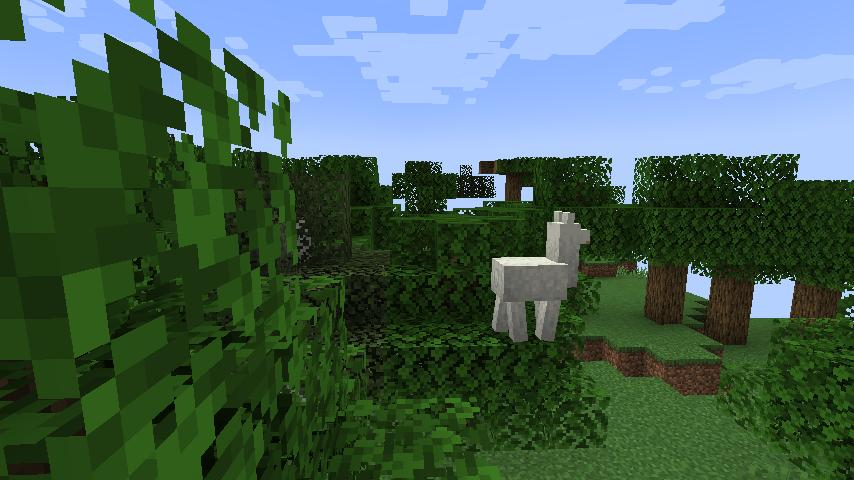llama: (487, 205, 593, 348)
